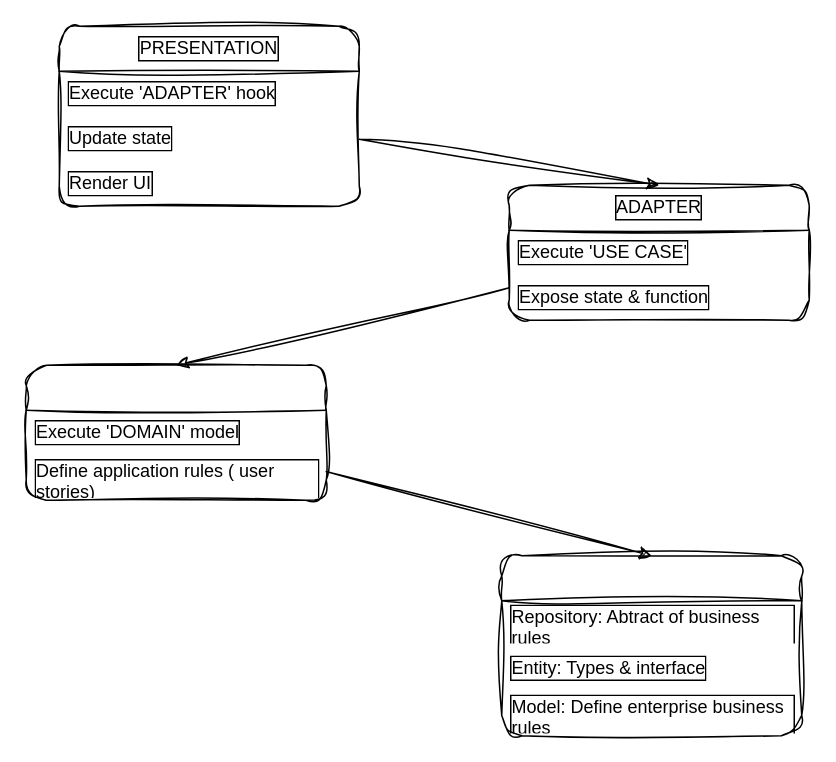
The diagram is 836 pixels wide and 762 high, and some of its shapes have lost their labels. The shapes that lost their labels are listed below. From the top down, each one's box as (x1, y1, x2, y2) in pixels, then its label:
(25, 364, 326, 500): USE CASE
(500, 554, 802, 736): DOMAIN
